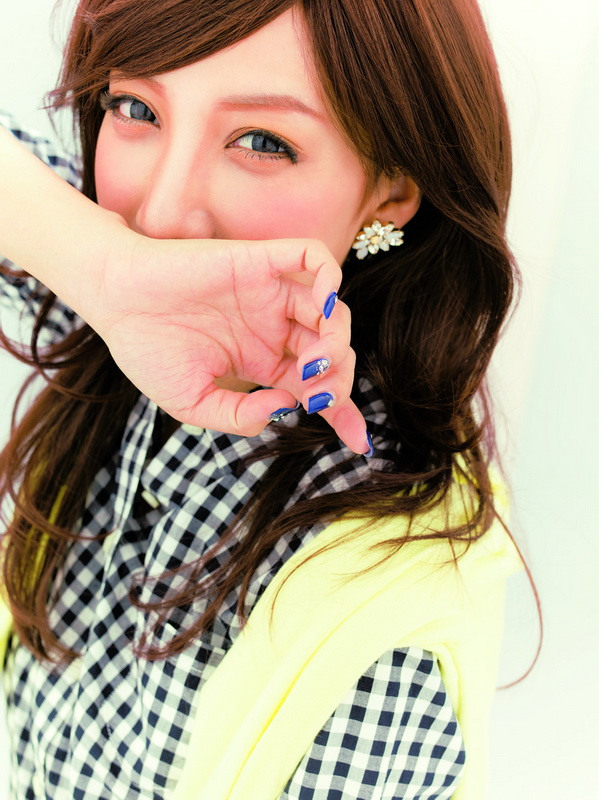face: (90, 1, 360, 396)
